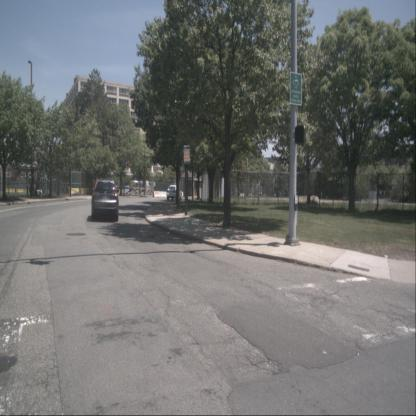vehicle-car: (91, 178, 119, 222), (166, 184, 182, 200)
